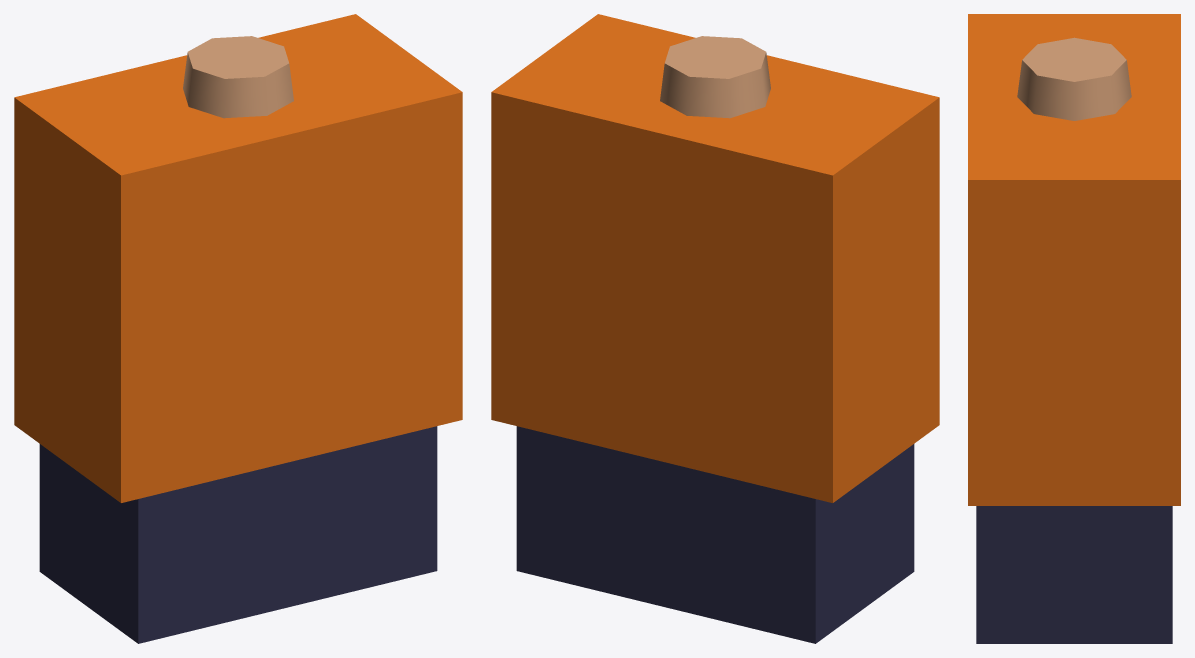
Rendered from PArrodillado_Torso.obj.
3 views of the same model, side by side, from view 1: azimuth 30°, elevation 25°; view 2: azimuth 150°, elevation 25°; view 3: azimuth 270°, elevation 25° (orthographic).
Parts seen in each view (by area): view 1: Torso; view 2: Torso; view 3: Torso.
Part boxes in pixels (<box>): Torso: <box>14,14,462,643</box>; Torso: <box>491,14,939,643</box>; Torso: <box>968,14,1180,643</box>.
Bounding box in the file's own units: 0.24 × 0.345 × 0.13.
Materials: 1 (1 with a texture image).
